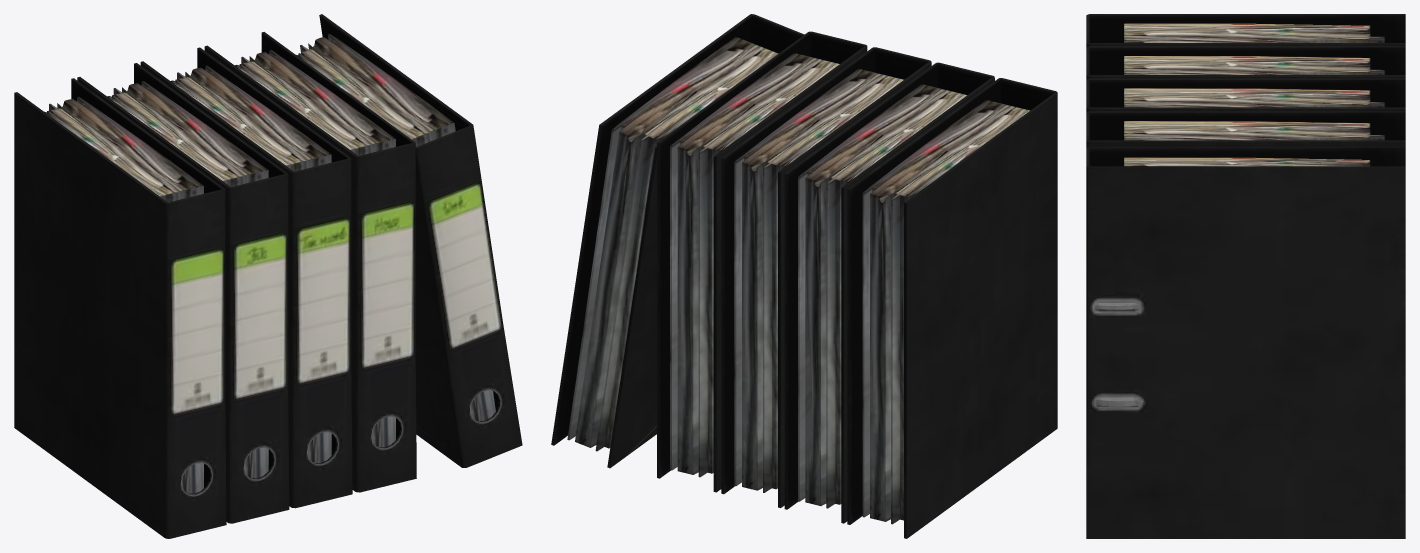
Rendered from binders.glb.
3 renders of one model, left to right at view 1: azimuth 30°, elevation 25°; view 2: azimuth 150°, elevation 25°; view 3: azimuth 270°, elevation 25°, orthographic. The views are drawn at different scales.
Parts seen in each view (by area): view 1: folder_LP_nolabel_Folder_nolabel_0, folder_LP_House_Folder_House_0, folder_LP_TaxRecords_Folder_TaxRecords_0, folder_LP_Bills_Folder_Bills_0, folder_LP_Work_Folder_Work_0; view 2: folder_LP_nolabel_Folder_nolabel_0, folder_LP_House_Folder_House_0, folder_LP_TaxRecords_Folder_TaxRecords_0, folder_LP_Bills_Folder_Bills_0, folder_LP_Work_Folder_Work_0; view 3: folder_LP_Work_Folder_Work_0, folder_LP_nolabel_Folder_nolabel_0, folder_LP_House_Folder_House_0, folder_LP_TaxRecords_Folder_TaxRecords_0, folder_LP_Bills_Folder_Bills_0.
Boxes of the visible parts, x1,y1,x2,y2 form: folder_LP_nolabel_Folder_nolabel_0: (14,33,495,538); folder_LP_House_Folder_House_0: (204,32,416,492); folder_LP_TaxRecords_Folder_TaxRecords_0: (140,47,352,508); folder_LP_Bills_Folder_Bills_0: (77,63,289,523); folder_LP_Work_Folder_Work_0: (319,14,522,467); folder_LP_nolabel_Folder_nolabel_0: (567,36,1057,538); folder_LP_House_Folder_House_0: (657,31,867,492); folder_LP_TaxRecords_Folder_TaxRecords_0: (721,47,931,507); folder_LP_Bills_Folder_Bills_0: (784,62,994,523); folder_LP_Work_Folder_Work_0: (551,14,804,468); folder_LP_Work_Folder_Work_0: (1086,147,1405,538); folder_LP_nolabel_Folder_nolabel_0: (1086,14,1405,166); folder_LP_House_Folder_House_0: (1086,111,1405,147); folder_LP_TaxRecords_Folder_TaxRecords_0: (1086,78,1405,112); folder_LP_Bills_Folder_Bills_0: (1086,46,1405,79).
Bounding box in the file's own units: 42.68 × 39.09 × 31.71.
5 materials, 5 textured.
